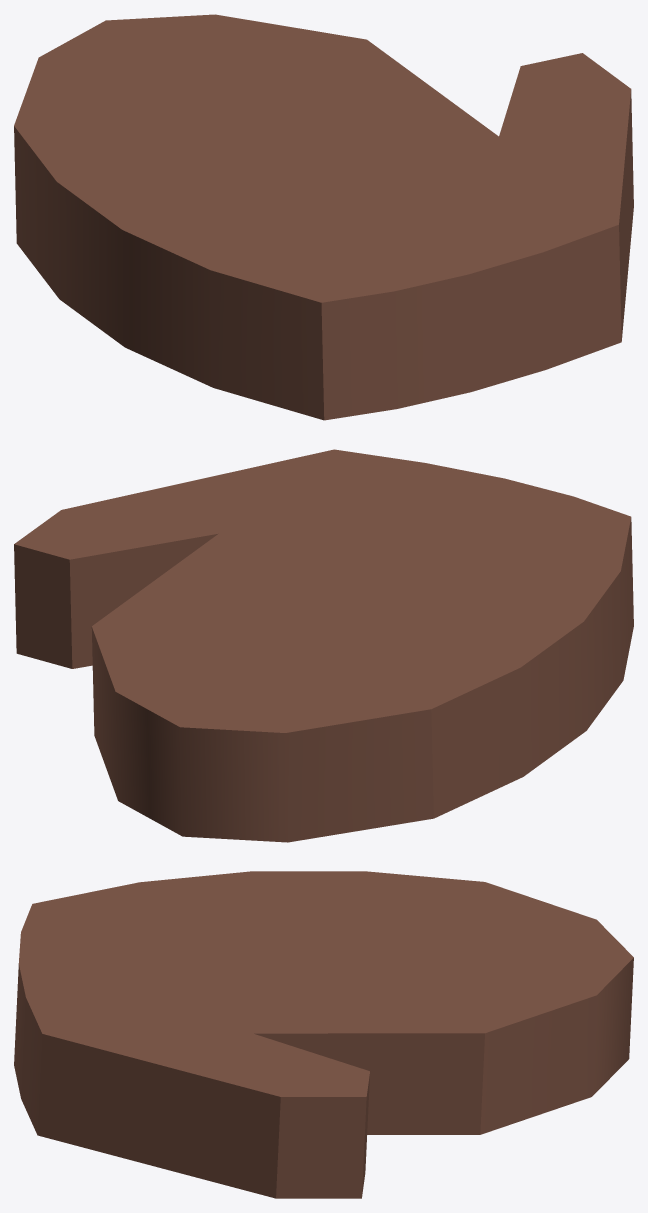
The model's file is RightHand.fbx.
3 renders of one model, top to bottom at view 1: azimuth 30°, elevation 25°; view 2: azimuth 150°, elevation 25°; view 3: azimuth 270°, elevation 25°, orthographic. The views are drawn at different scales.
Parts seen in each view (by area): view 1: Object002; view 2: Object002; view 3: Object002.
Part boxes in pixels (x1=…): Object002: x1=14, y1=14, x2=633, y2=420; Object002: x1=14, y1=449, x2=633, y2=842; Object002: x1=14, y1=871, x2=633, y2=1198.
Size of the model in its own units: 9.32 by 1.97 by 10.82.
